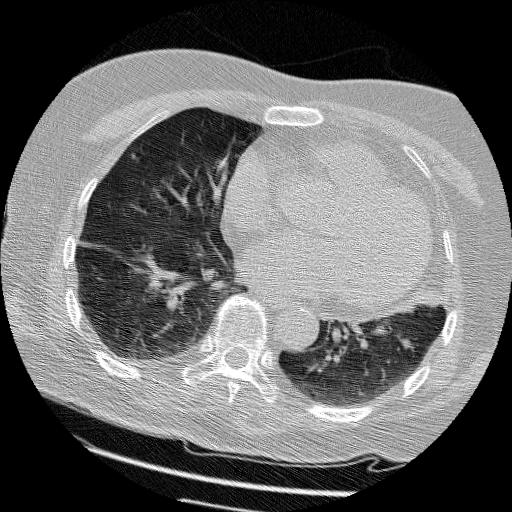nodule: (400, 338, 412, 350)
